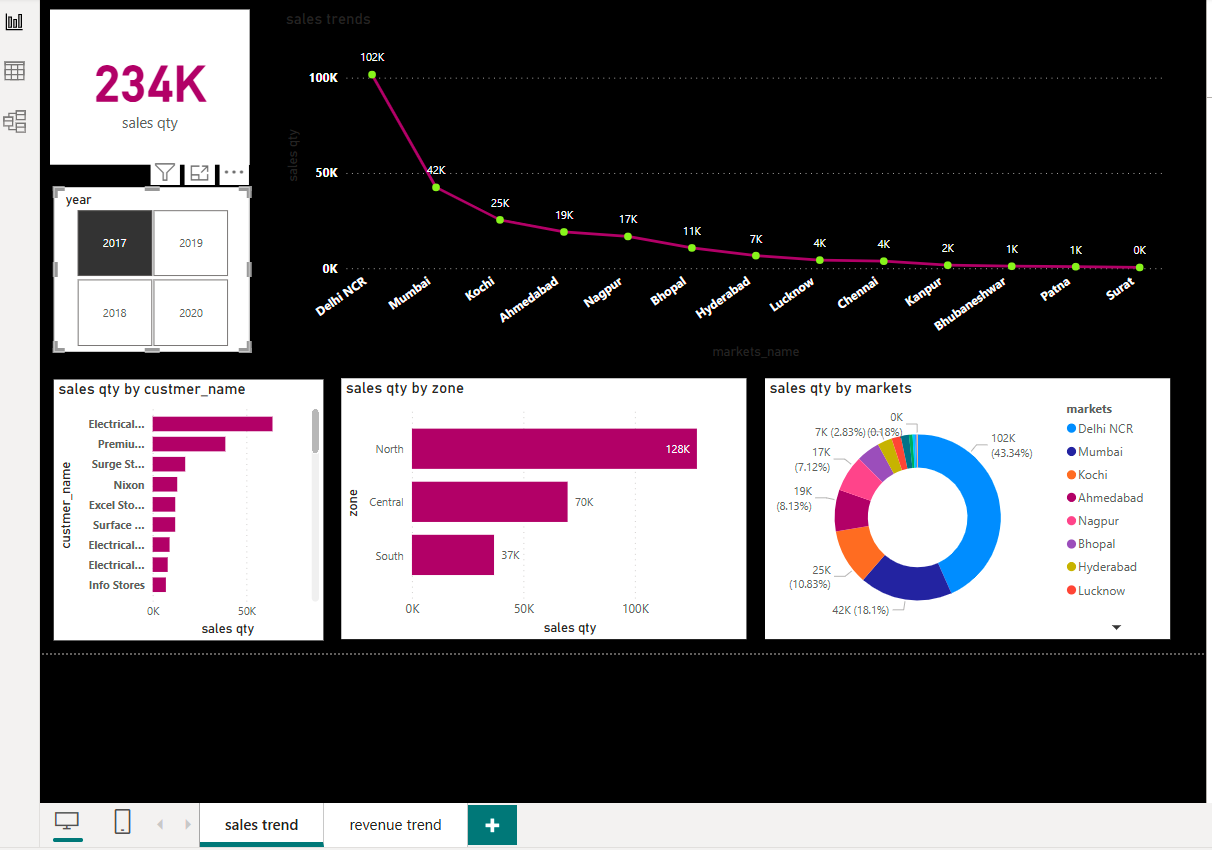

The page's visual inventory and layout, read from the dashboard file:
{"tool":"powerbi","page":{"name":"sales trend","canvas":[1280,720],"ordinal":0},"visuals":[{"type":"card","fields":{"Values":["basemeasure.sales qty"]},"box":[11,13.7,219.6,170.2],"z":0},{"type":"lineChart","title":"sales trends","fields":{"Y":["basemeasure.sales qty"],"Category":["sales markets.markets_name"]},"box":[264.8,13.7,975.6,388.3],"z":1000},{"type":"slicer","fields":{"Values":["sales date.year"]},"box":[15.1,208.6,215.4,181.1],"z":2000},{"type":"clusteredBarChart","fields":{"Y":["basemeasure.sales qty"],"Category":["sales markets.zone"]},"box":[330.7,418.5,444.6,286.8],"z":3000},{"type":"donutChart","title":"sales qty by markets","fields":{"Category":["sales markets.markets_name"],"Y":["basemeasure.sales qty"]},"box":[795.9,418.5,444.6,286.8],"z":4000},{"type":"clusteredBarChart","fields":{"Category":["sales customers.custmer_name"],"Y":["basemeasure.sales qty"]},"box":[15.1,419.9,296.4,286.8],"z":4001}]}

Visuals, with their boxes on the page's 1280x720 design canvas (x1, y1, x2, y2). These are canvas units, not pixel positions in the 1212x850 screenshot, which may show the page scaled, cropped or inside an application window:
card - basemeasure.sales qty: bbox=(11, 14, 231, 184)
"sales trends" lineChart: bbox=(265, 14, 1240, 402)
slicer - sales date.year: bbox=(15, 209, 230, 390)
clusteredBarChart - basemeasure.sales qty x sales markets.zone: bbox=(331, 418, 775, 705)
"sales qty by markets" donutChart: bbox=(796, 418, 1240, 705)
clusteredBarChart - sales customers.custmer_name x basemeasure.sales qty: bbox=(15, 420, 312, 707)
